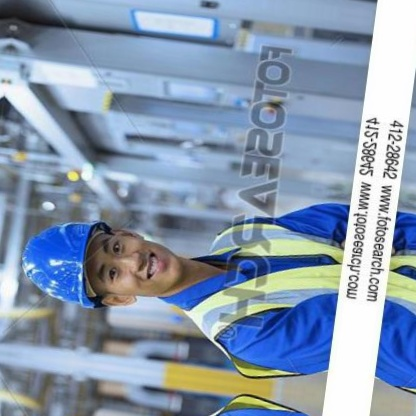blue: (12, 200, 113, 318)
vest: (177, 208, 341, 386)
